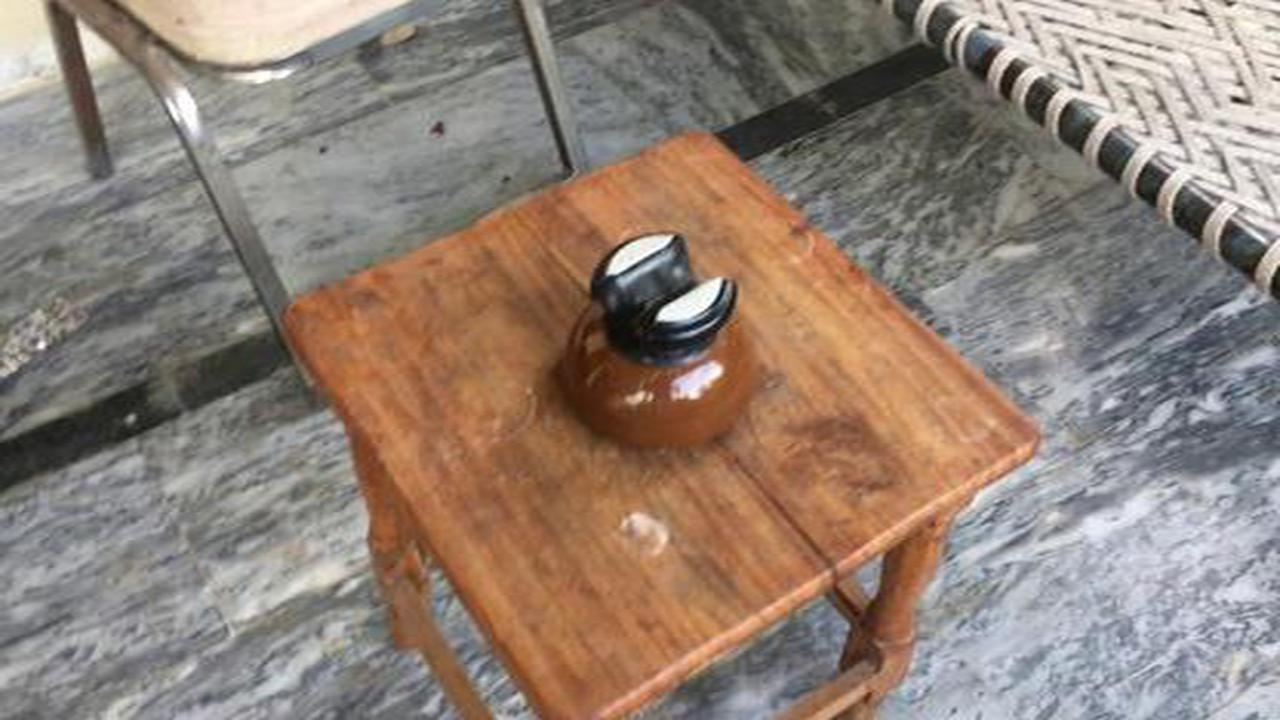insulator_pin: (539, 215, 773, 473)
